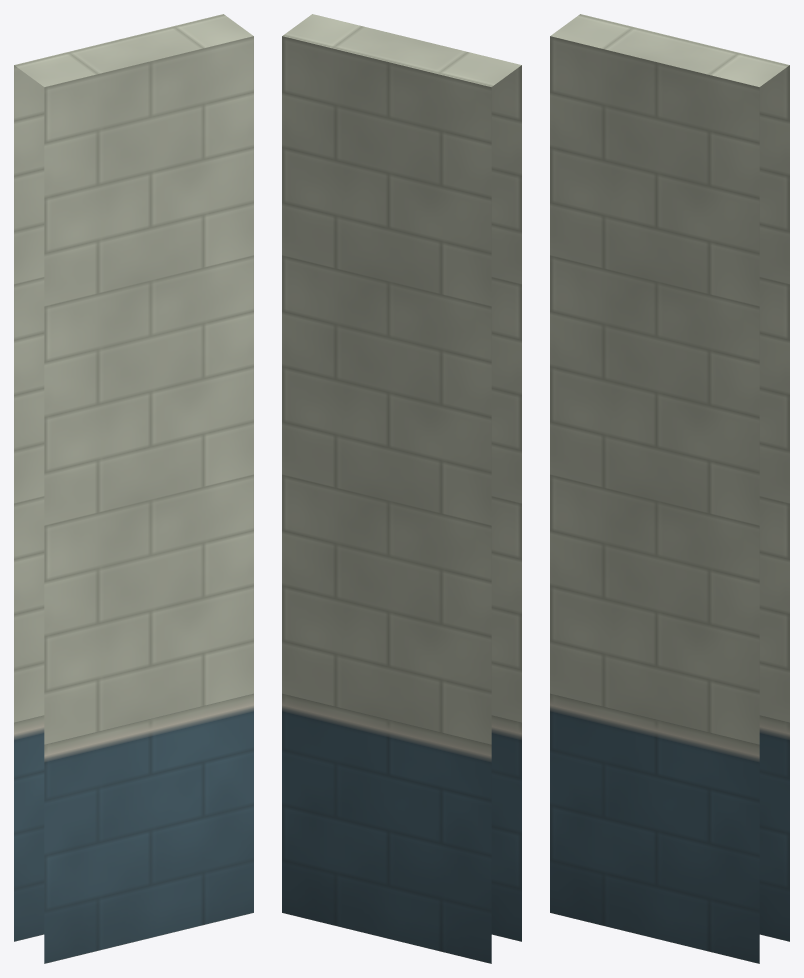
File: wall_prison_half.fbx
The picture shows the model from 3 angles, left to right: view 1: azimuth 30°, elevation 25°; view 2: azimuth 150°, elevation 25°; view 3: azimuth 330°, elevation 25°; orthographic projection.
Parts seen in each view (by area): view 1: wall_prison_half; view 2: wall_prison_half; view 3: wall_prison_half.
Part boxes in pixels (box(x1,y1,x2,y2)): wall_prison_half: box(14, 14, 253, 963); wall_prison_half: box(282, 14, 521, 963); wall_prison_half: box(550, 14, 789, 963).
Bounding box in the file's own units: 1 × 4 × 0.25.
1 material, 1 textured.
